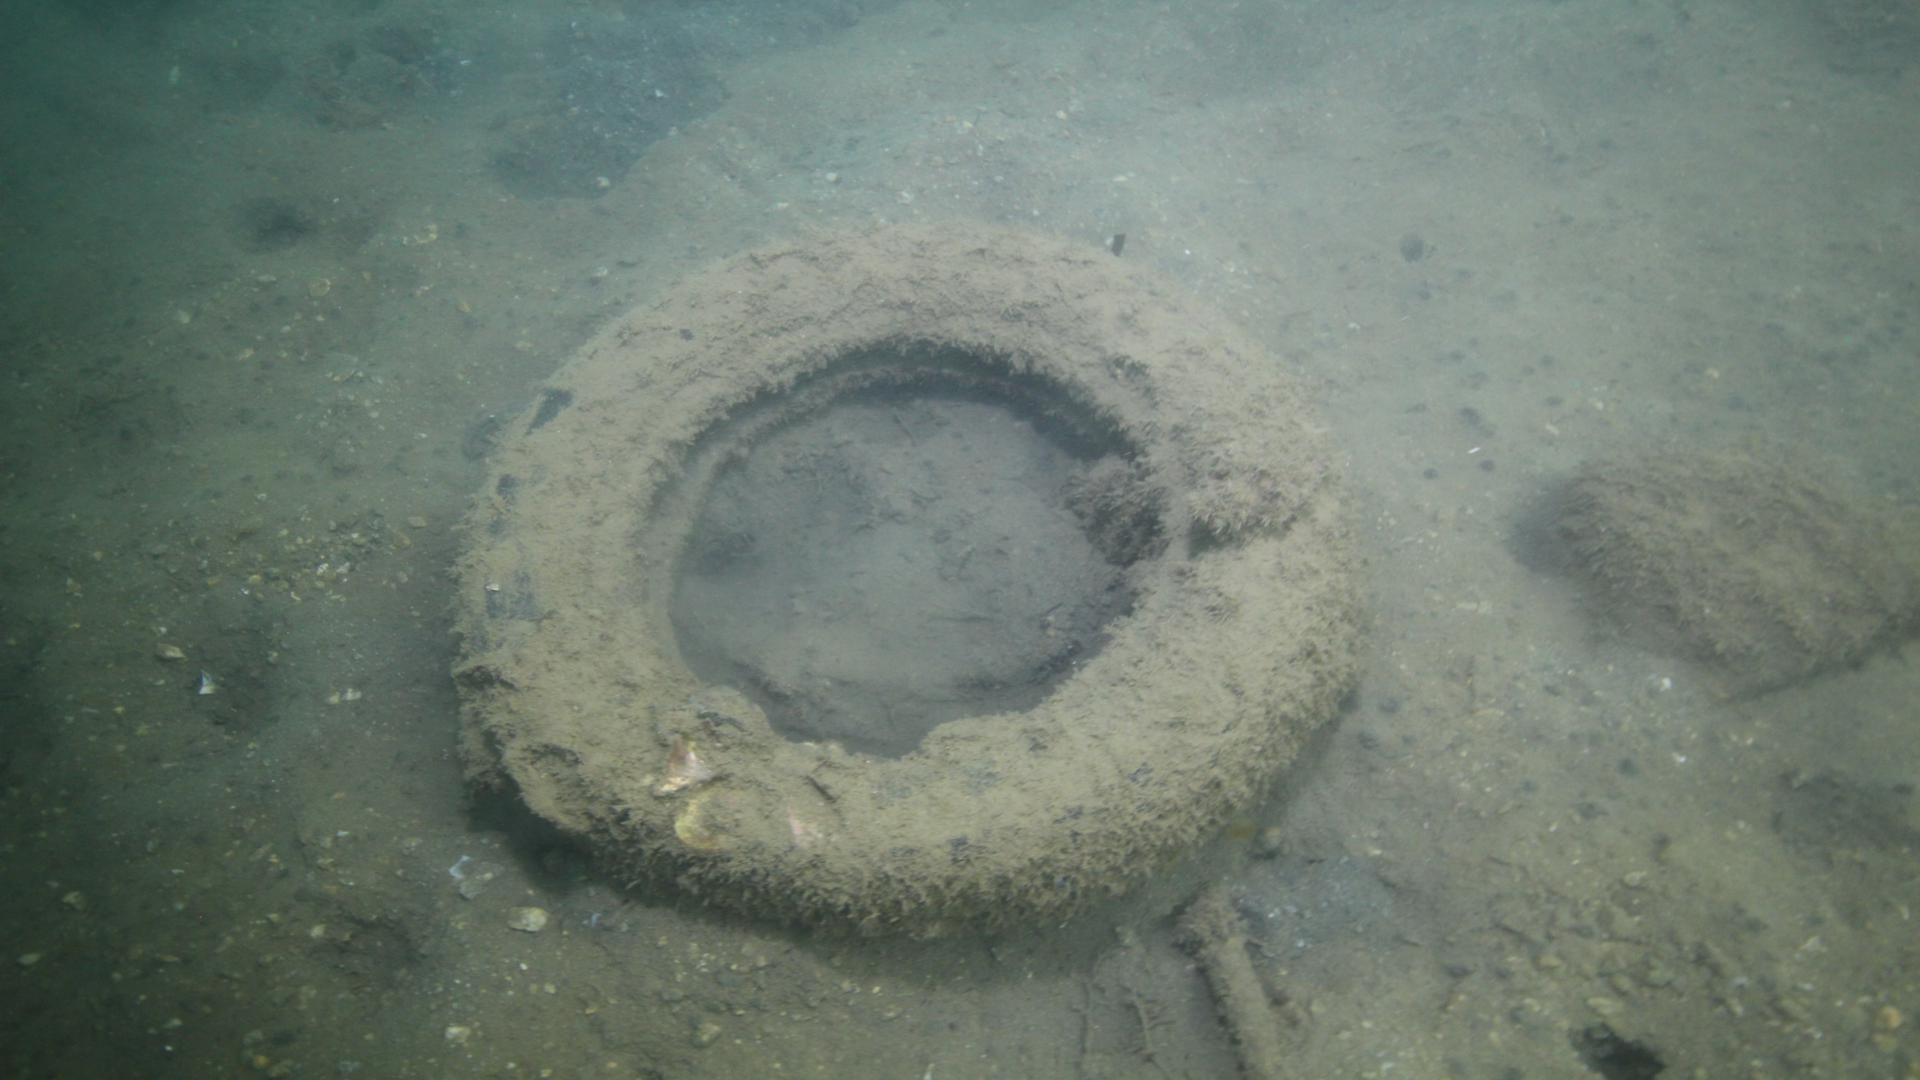tire: (454, 222, 1367, 935)
